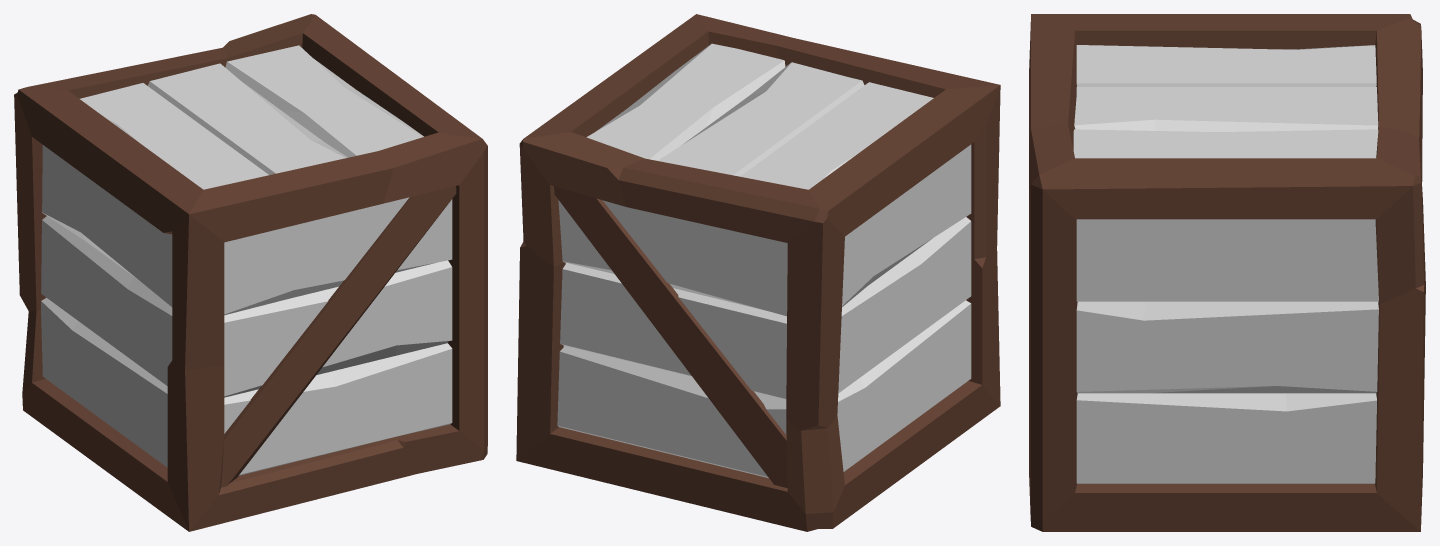
The model's file is Wooden_Box.fbx.
The picture shows the model from 3 angles, left to right: view 1: azimuth 30°, elevation 25°; view 2: azimuth 150°, elevation 25°; view 3: azimuth 270°, elevation 25°; orthographic projection. The views are drawn at different scales.
Visible parts, largest first — view 1: Wooden_Box; view 2: Wooden_Box; view 3: Wooden_Box.
Part boxes in pixels (<box>): Wooden_Box: <box>14,14,487,531</box>; Wooden_Box: <box>516,14,1000,531</box>; Wooden_Box: <box>1029,14,1425,531</box>.
Bounding box in the file's own units: 2.06 × 2.06 × 2.08.
